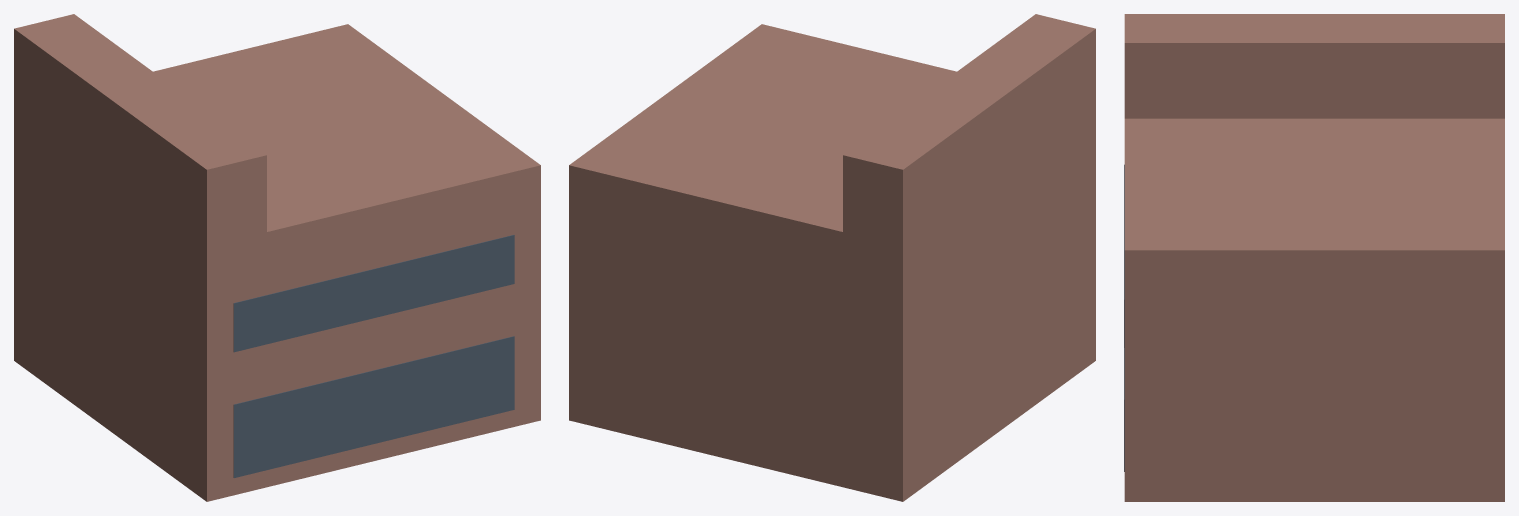
File: townhouse.lod2.glb
The picture shows the model from 3 angles, left to right: view 1: azimuth 30°, elevation 25°; view 2: azimuth 150°, elevation 25°; view 3: azimuth 270°, elevation 25°; orthographic projection.
Parts seen in each view (by area): view 1: townhouse; view 2: townhouse; view 3: townhouse.
Part boxes in pixels (bbox=[...]): townhouse: bbox=[14, 14, 540, 501]; townhouse: bbox=[569, 14, 1095, 501]; townhouse: bbox=[1124, 14, 1504, 501].
Bounding box in the file's own units: 10 × 9.5 × 10.02.
